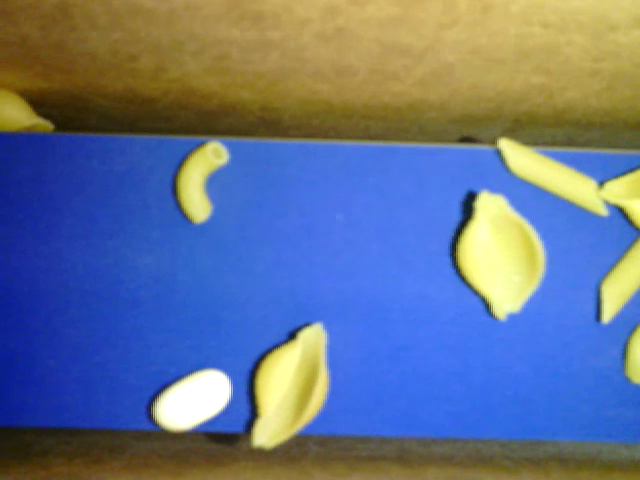elbow: (176, 137, 230, 230)
penne: (495, 135, 609, 219), (592, 231, 639, 325)
shell: (454, 184, 544, 324), (244, 316, 335, 454), (596, 161, 639, 230), (2, 87, 59, 134), (620, 330, 639, 380)
